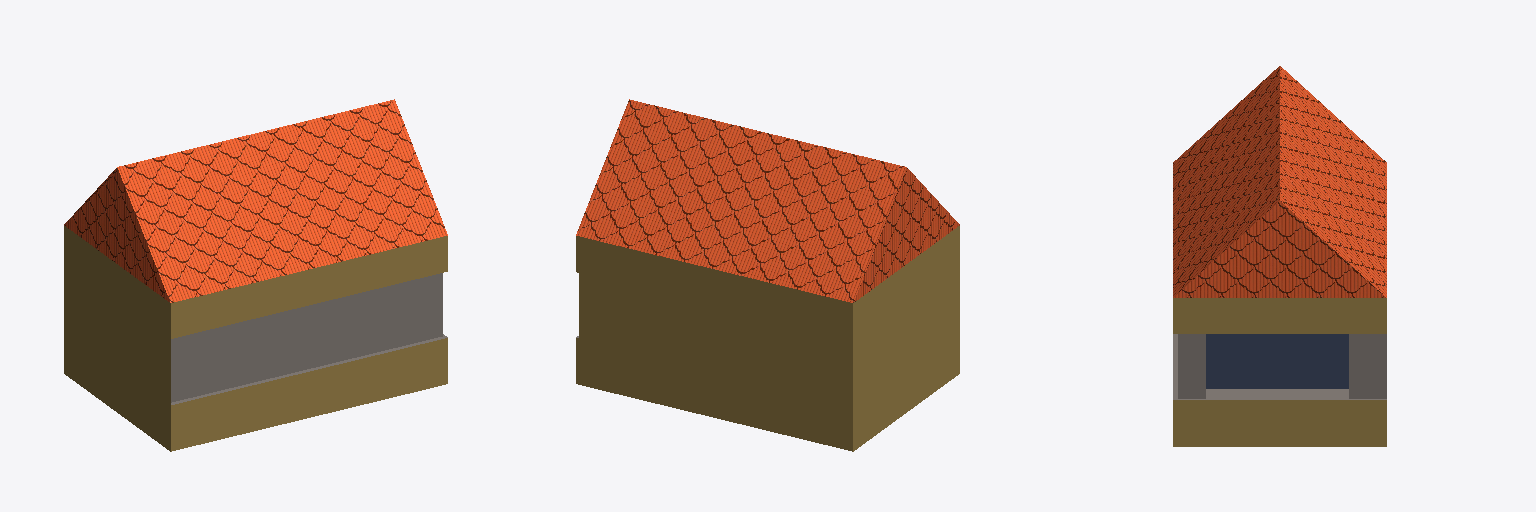
3 views of the same model, side by side, from view 1: azimuth 30°, elevation 25°; view 2: azimuth 150°, elevation 25°; view 3: azimuth 270°, elevation 25° (orthographic).
Parts seen in each view (by area): view 1: Mesh1 Model; view 2: Mesh1 Model; view 3: Mesh1 Model.
Boxes of the visible parts, x1=… form: Mesh1 Model: x1=64, y1=99, x2=447, y2=451; Mesh1 Model: x1=576, y1=99, x2=959, y2=451; Mesh1 Model: x1=1173, y1=66, x2=1386, y2=446.
Size of the model in its own units: 3 by 2.54 by 2.
5 materials, 1 textured.